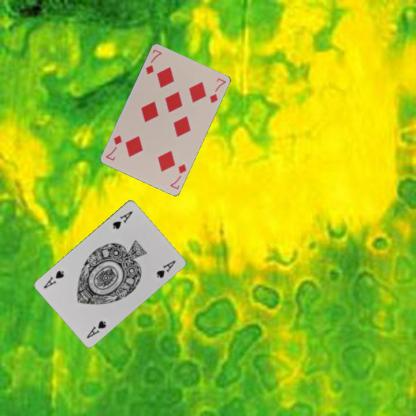7d: (143, 46, 163, 76), (167, 161, 187, 191)
As: (110, 208, 133, 231), (84, 318, 107, 339)
